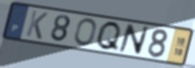8: (146, 28, 170, 60), (50, 14, 72, 43)
K: (25, 9, 50, 41)
N: (117, 22, 151, 56)
O: (73, 17, 98, 48)
Q: (94, 20, 123, 53)
